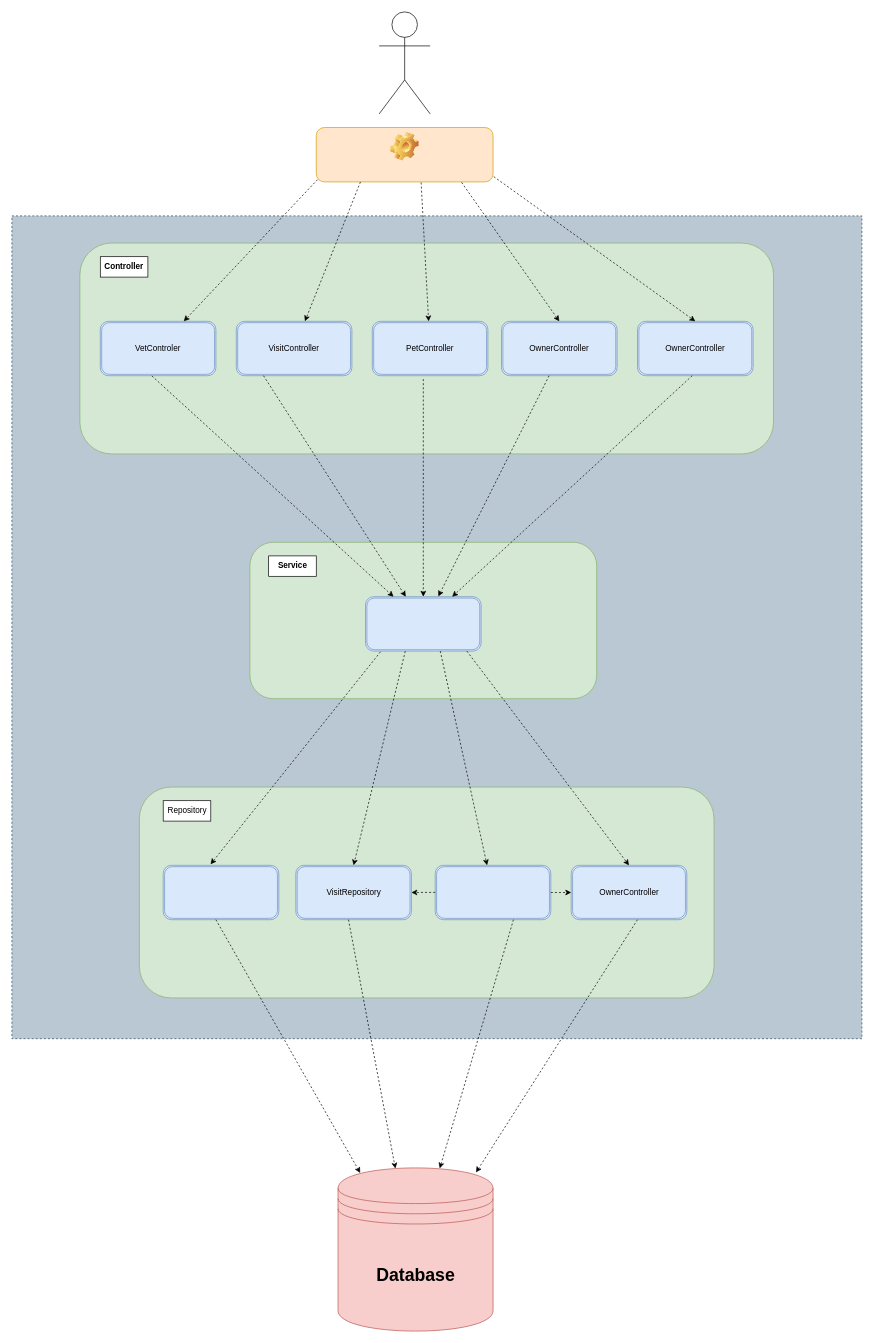
Image size: 874x1343. Some labels were removed from this diagram. The shapes that lost their labels are listed below. From the top down, each one's centre as x and y in pixels, then its label:
the point at 404,154: HTTPS/HTTP Request Response
the point at 423,623: ClinicService
the point at 221,892: VetRepository
the point at 493,892: PetRepository
